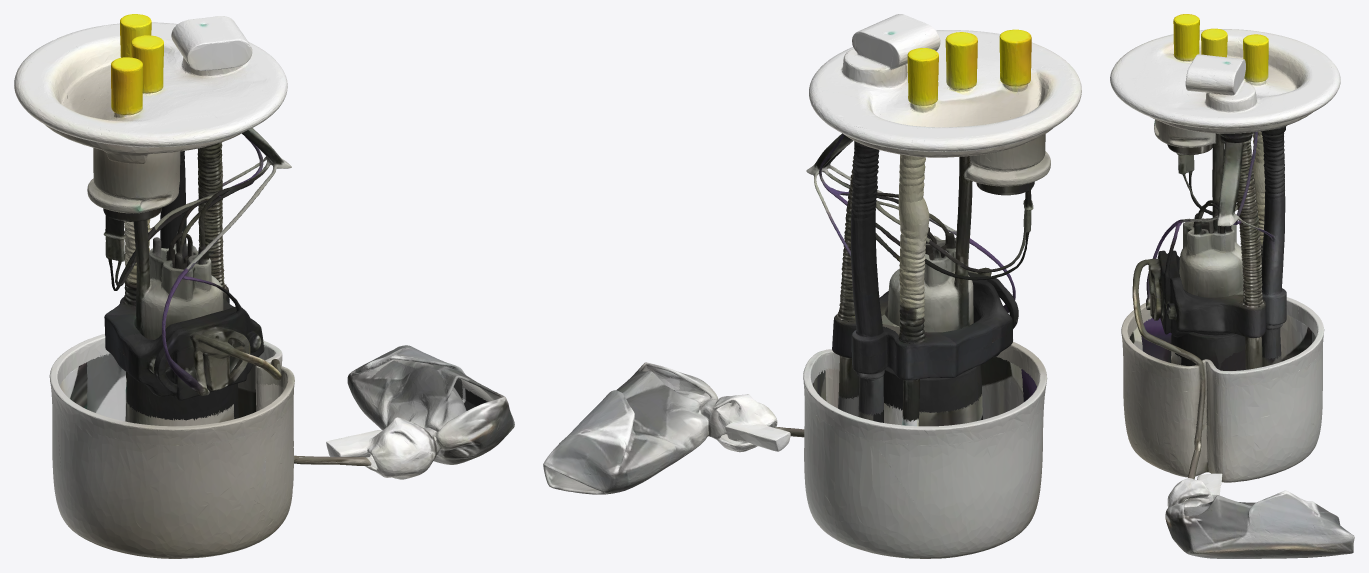
The model's file is double-wishbone.glb.
3 views of the same model, side by side, from view 1: azimuth 30°, elevation 25°; view 2: azimuth 150°, elevation 25°; view 3: azimuth 270°, elevation 25° (orthographic). The views are drawn at different scales.
Visible parts, largest first — view 1: aiprintgen_tmpekoyqawc.obj; view 2: aiprintgen_tmpekoyqawc.obj; view 3: aiprintgen_tmpekoyqawc.obj.
Part boxes in pixels (x1,y1,x2,y2): aiprintgen_tmpekoyqawc.obj: (14, 14, 514, 558); aiprintgen_tmpekoyqawc.obj: (543, 14, 1081, 558); aiprintgen_tmpekoyqawc.obj: (1110, 14, 1354, 558).
Size of the model in its own units: 1.38 by 1.39 by 0.7724.
1 material, 1 textured.
